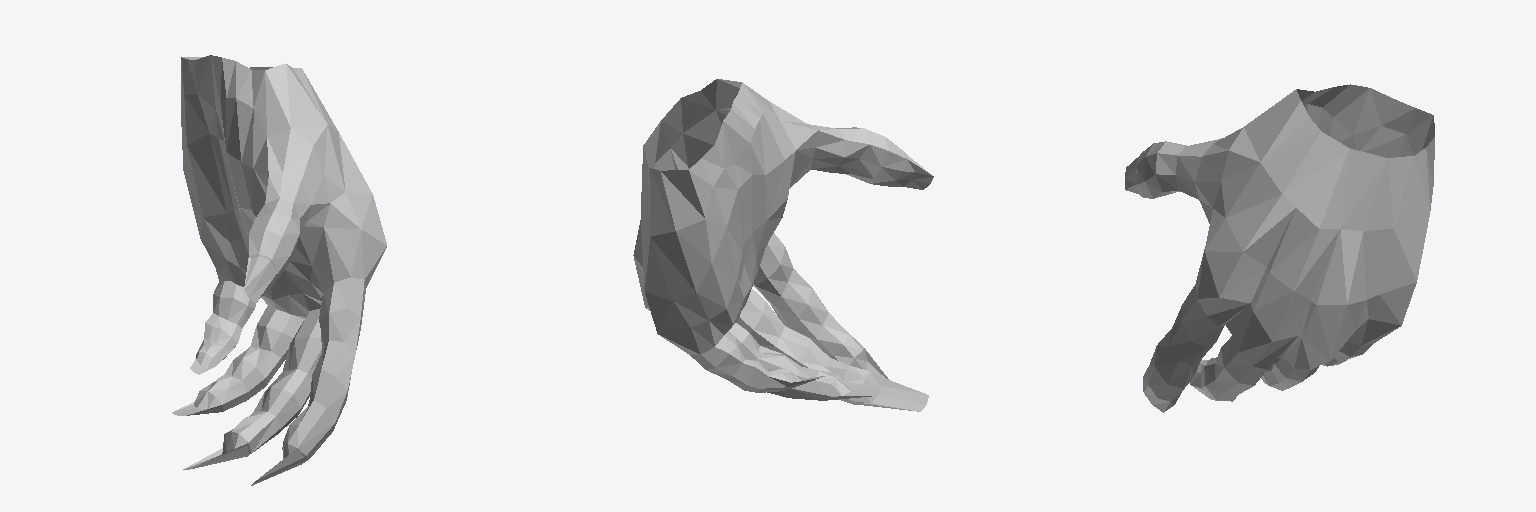
The model's file is Hand_Left.obj.
3 renders of one model, left to right at view 1: azimuth 30°, elevation 25°; view 2: azimuth 150°, elevation 25°; view 3: azimuth 270°, elevation 25°, orthographic.
Parts seen in each view (by area): view 1: Hand_Cube.026; view 2: Hand_Cube.026; view 3: Hand_Cube.026.
Part boxes in pixels (x1,y1,x2,y2): Hand_Cube.026: (172, 55, 386, 485); Hand_Cube.026: (633, 79, 933, 411); Hand_Cube.026: (1125, 84, 1434, 412).
Bounding box in the file's own units: 2.43 × 3.57 × 2.86.